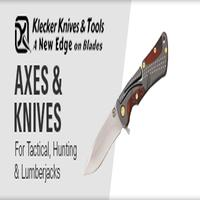knife: (79, 31, 172, 180)
